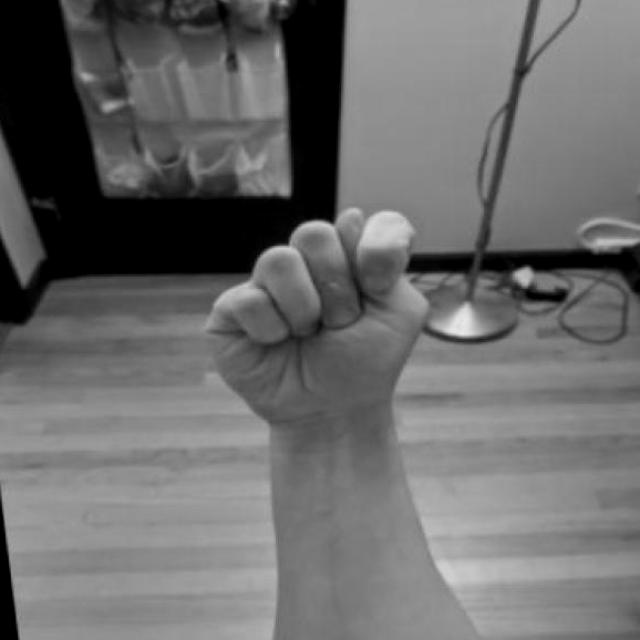T: (199, 191, 451, 458)
